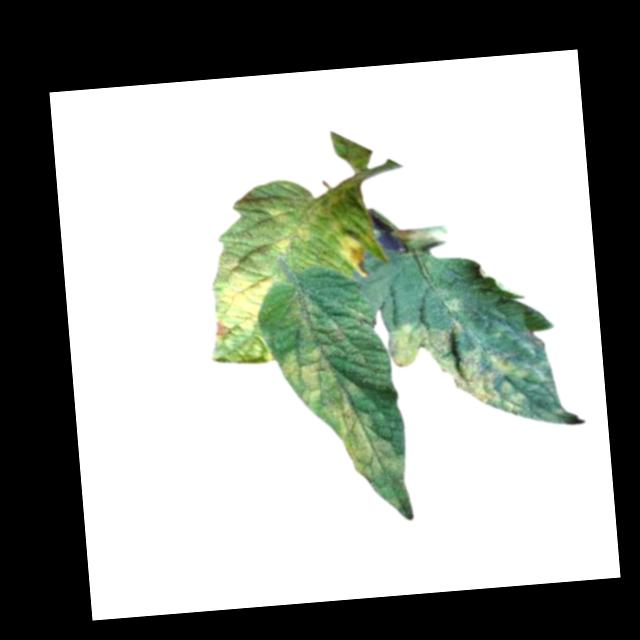Leaf_Mold: (277, 338, 401, 489), (386, 312, 532, 427), (211, 251, 281, 339), (264, 203, 317, 256), (337, 226, 372, 282)
